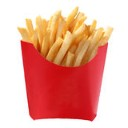frenchfries: (18, 7, 115, 62)
